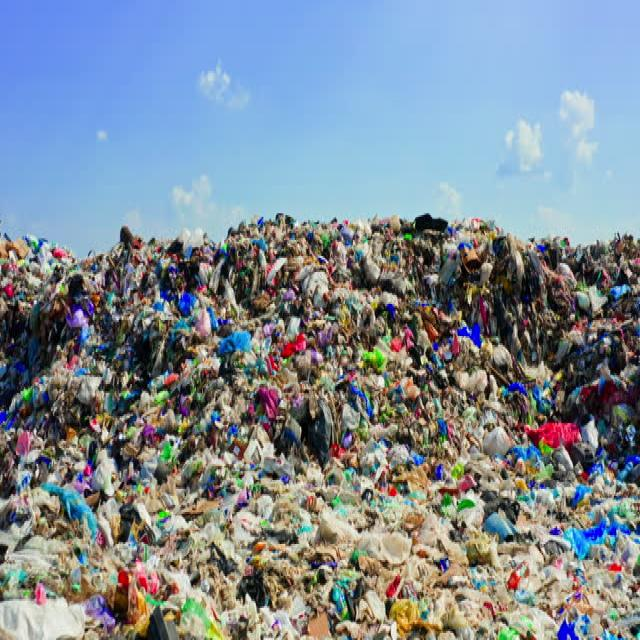plastic: (42, 190, 591, 619)
